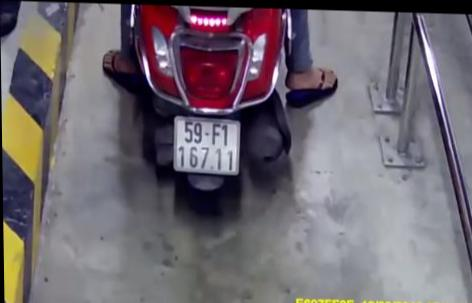LP: (171, 110, 241, 177)
